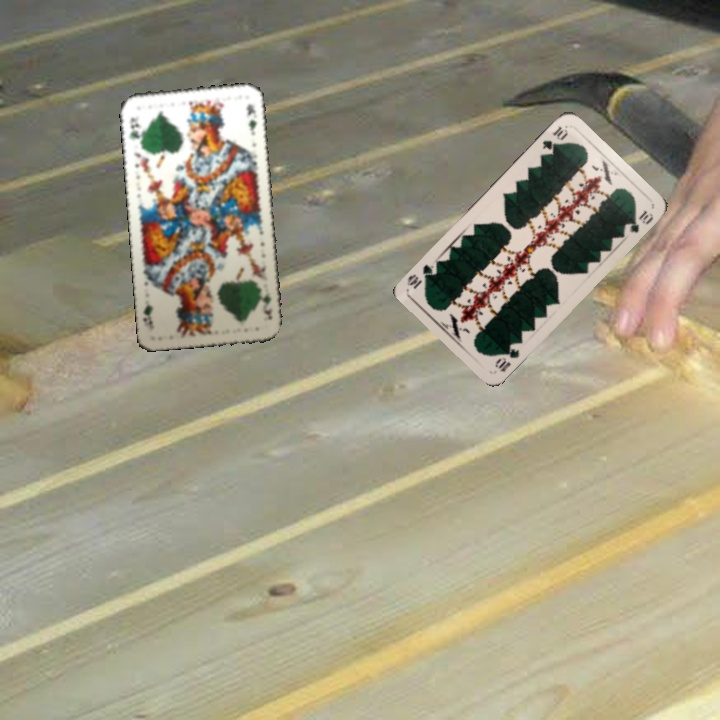G10: (538, 122, 570, 153), (490, 343, 522, 374)
GK: (125, 113, 145, 147), (257, 285, 275, 322)
